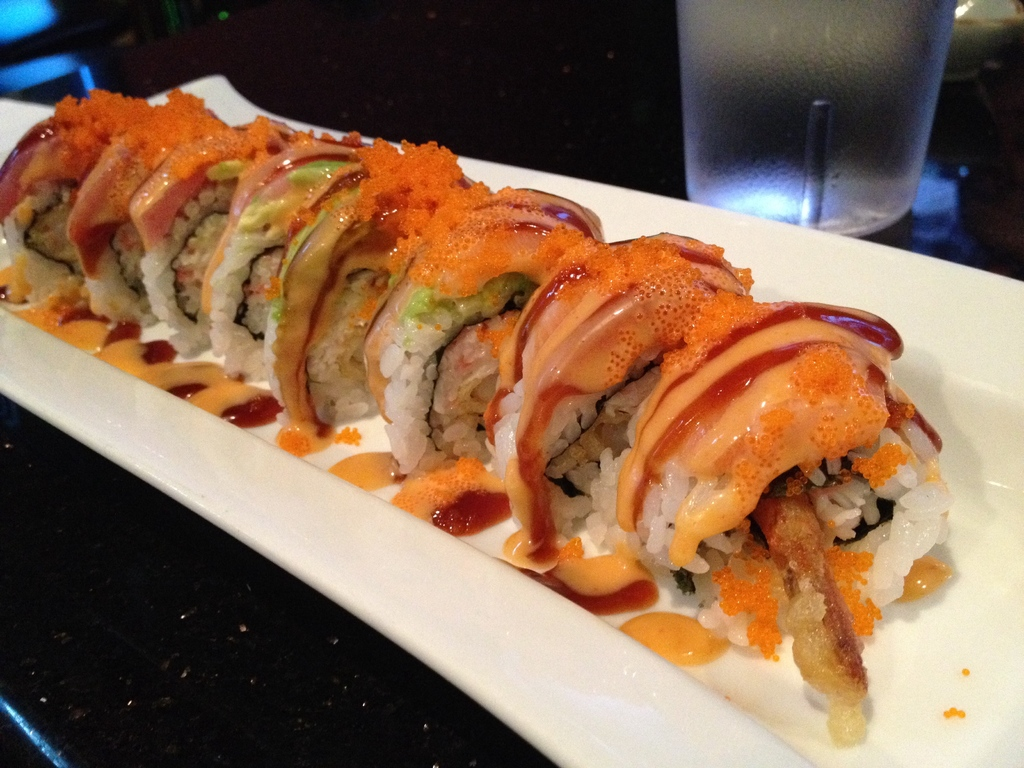sushi: (0, 88, 948, 737), (572, 294, 952, 747)
